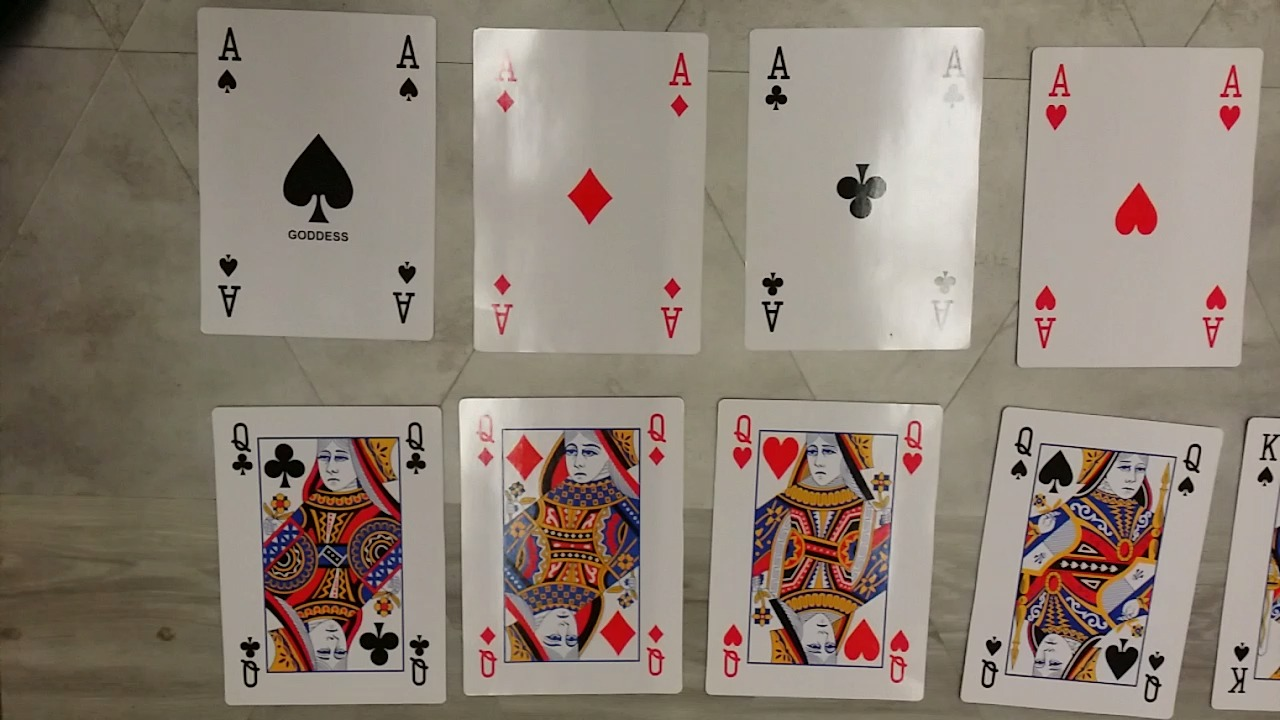1_club: (744, 28, 981, 351)
1_diamond: (471, 23, 705, 352)
1_heart: (1015, 47, 1257, 368)
1_spade: (193, 9, 441, 348)
king_spade: (1203, 418, 1280, 709)
queen_club: (214, 403, 454, 705)
queen_diamond: (456, 395, 688, 699)
queen_heart: (704, 397, 941, 699)
queen_spade: (958, 395, 1227, 720)
